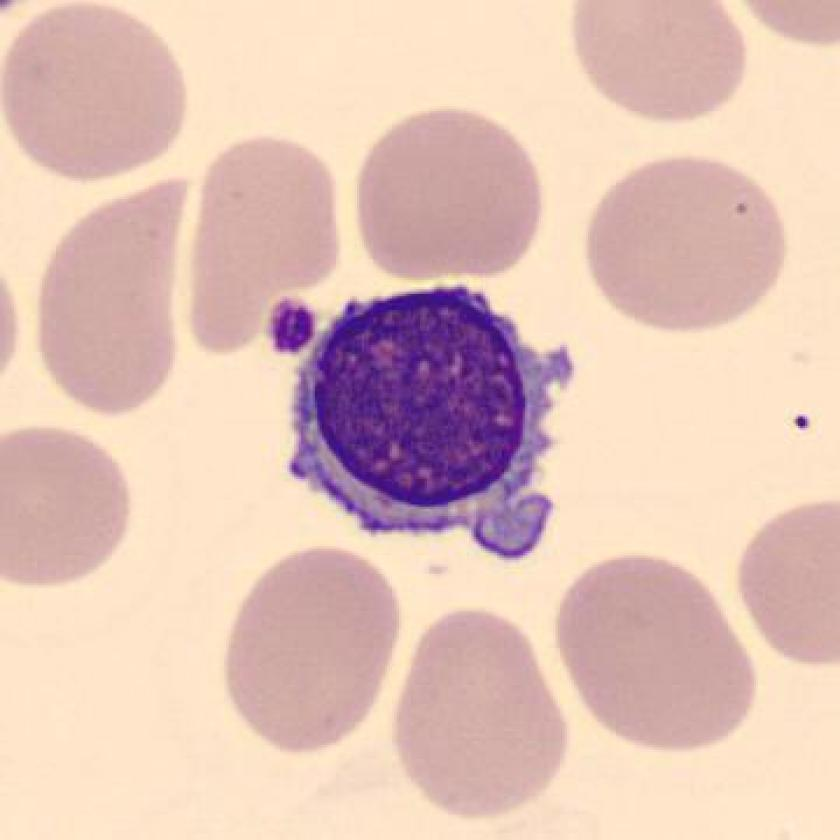lymphocyte: (244, 258, 601, 568)
platelets: (260, 282, 324, 358)
